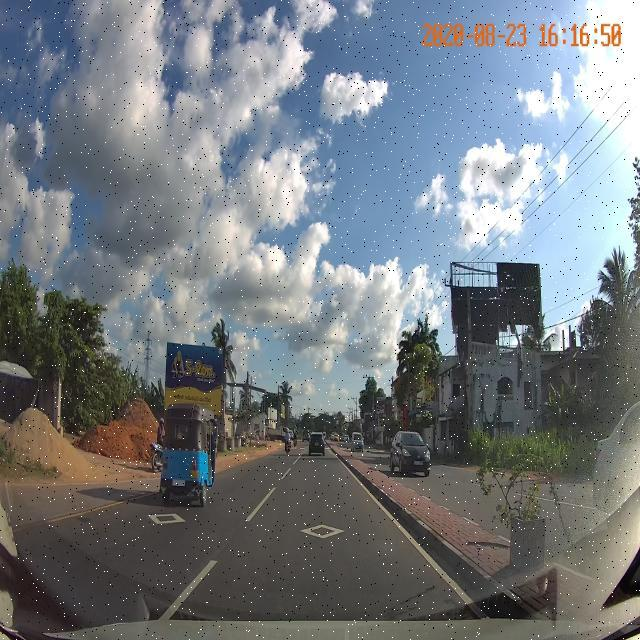diamond: (223, 511, 423, 548)
